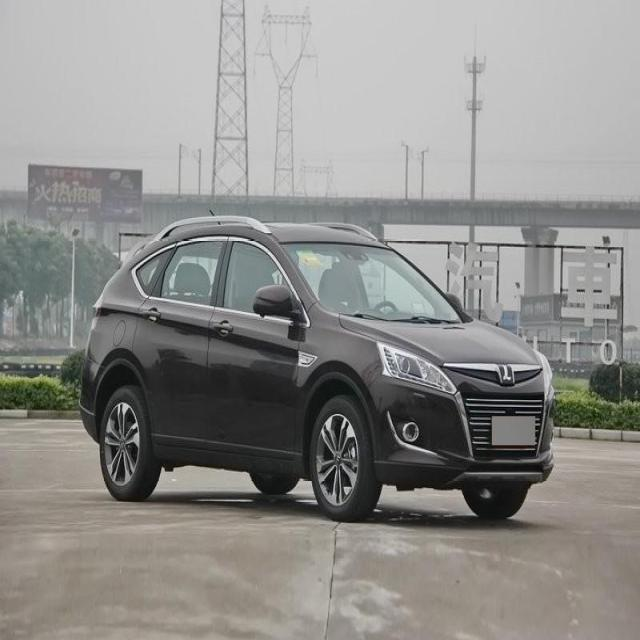back_right_side_light: (91, 291, 104, 333)
door: (132, 228, 234, 446)
front_bumper: (364, 381, 558, 486)
front_glass: (278, 239, 462, 326)
front_right_side_door: (202, 225, 302, 463)
front_right_side_light: (373, 336, 458, 398)
front_right_side_mirror: (252, 281, 306, 328)
rear_bumper: (78, 346, 112, 440)
wheel: (308, 391, 381, 519), (100, 384, 156, 498), (462, 484, 534, 520), (247, 470, 300, 502)
